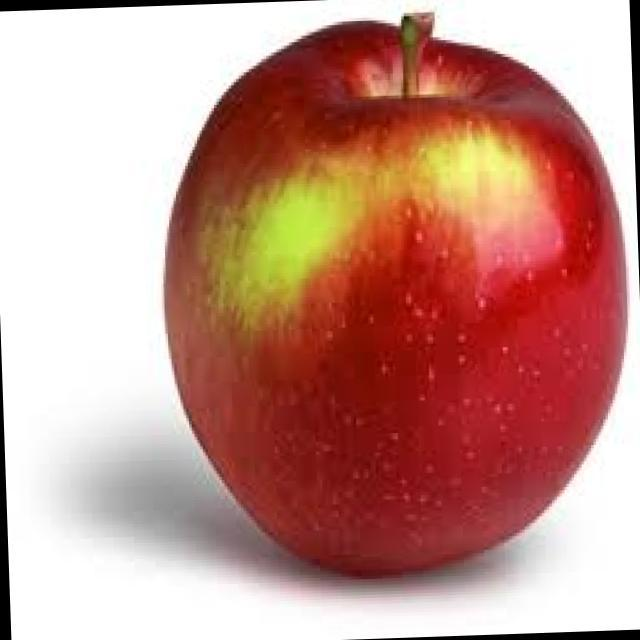Apple: (132, 0, 640, 595)
